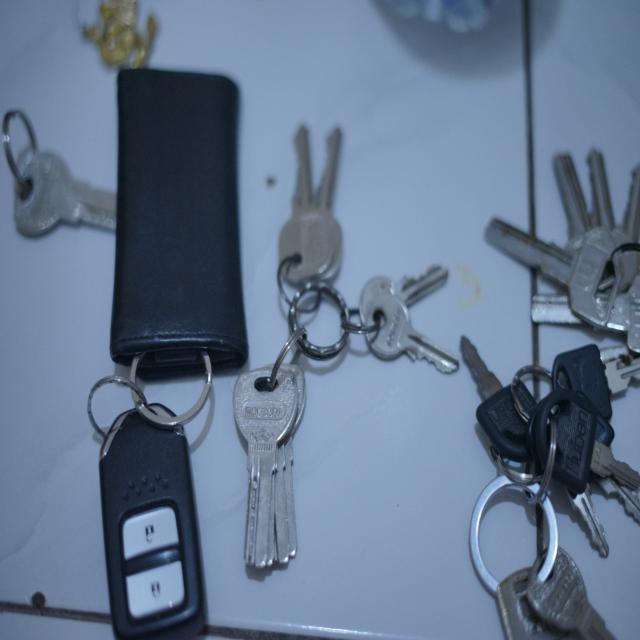keys-watch-charger: (0, 95, 640, 640)
